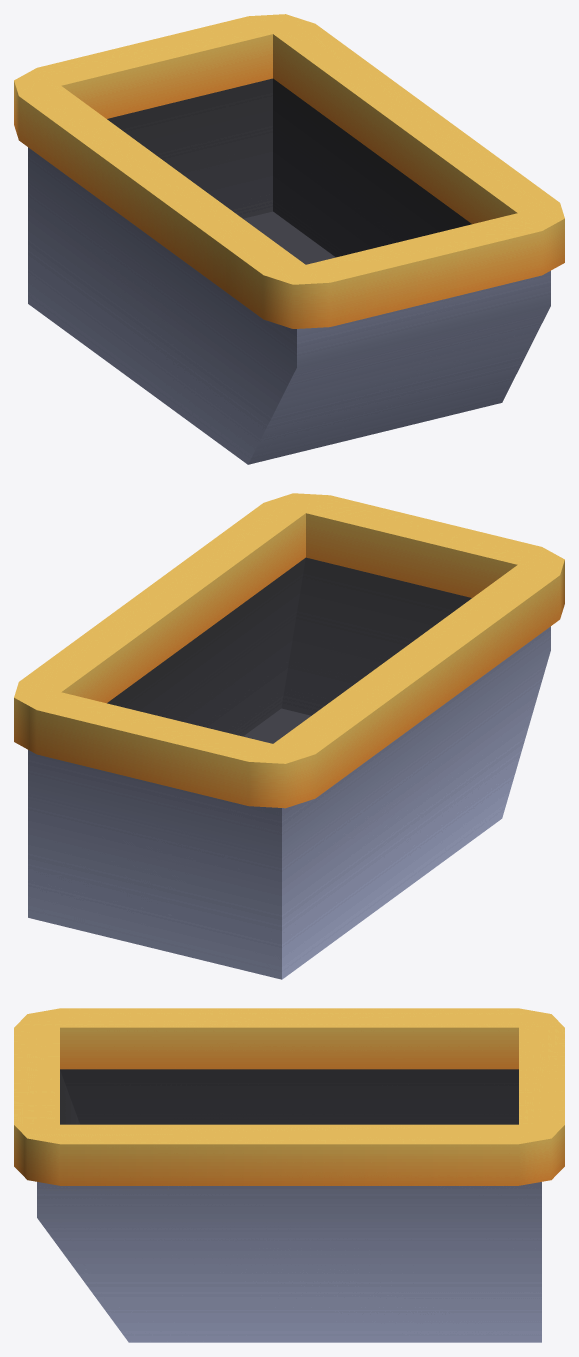
The model's file is skip.glb.
3 views of the same model, one above another, from view 1: azimuth 30°, elevation 25°; view 2: azimuth 150°, elevation 25°; view 3: azimuth 270°, elevation 25° (orthographic). The views are drawn at different scales.
Visible parts, largest first — view 1: skip; view 2: skip; view 3: skip.
Part boxes in pixels (x1,y1,x2,y2): skip: [14, 14, 564, 464]; skip: [14, 493, 564, 979]; skip: [14, 1008, 564, 1342].
Size of the model in its own units: 0.7 by 0.5 by 1.2.
1 material, 1 textured.
